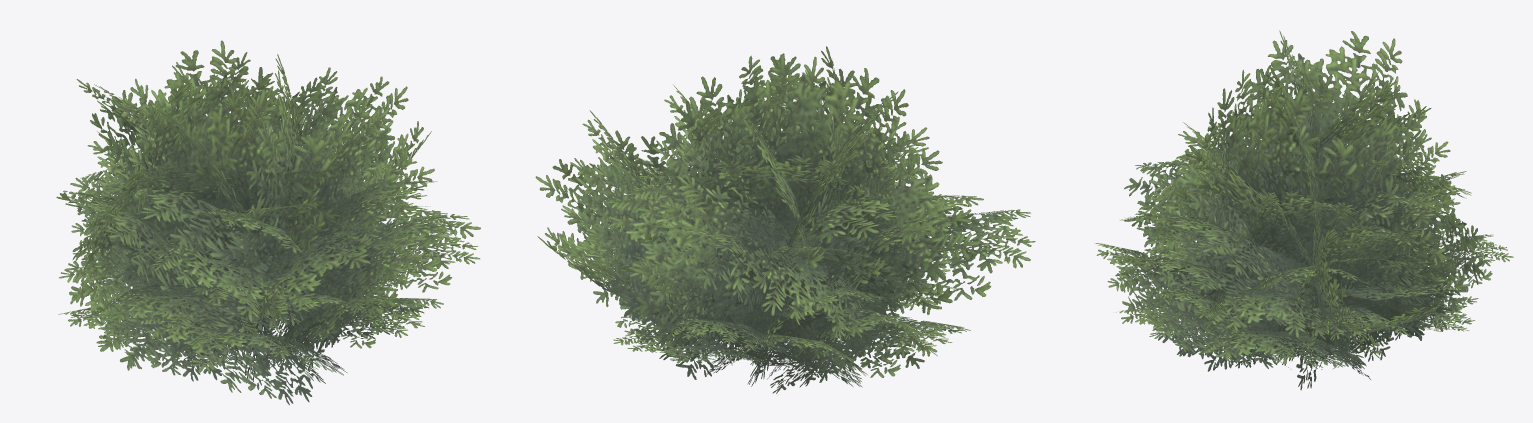
File: 大灌木.glb
The picture shows the model from 3 angles, left to right: view 1: azimuth 30°, elevation 25°; view 2: azimuth 150°, elevation 25°; view 3: azimuth 270°, elevation 25°; orthographic projection. The views are drawn at different scales.
Parts seen in each view (by area): view 1: 大灌木; view 2: 大灌木; view 3: 大灌木.
Part boxes in pixels (left/top/right/bottom): 大灌木: left=56, top=40, right=480, bottom=405; 大灌木: left=535, top=46, right=1035, bottom=393; 大灌木: left=1095, top=30, right=1513, bottom=390.
Bounding box in the file's own units: 4.58 × 3.53 × 4.09.
Materials: 1 (1 with a texture image).
